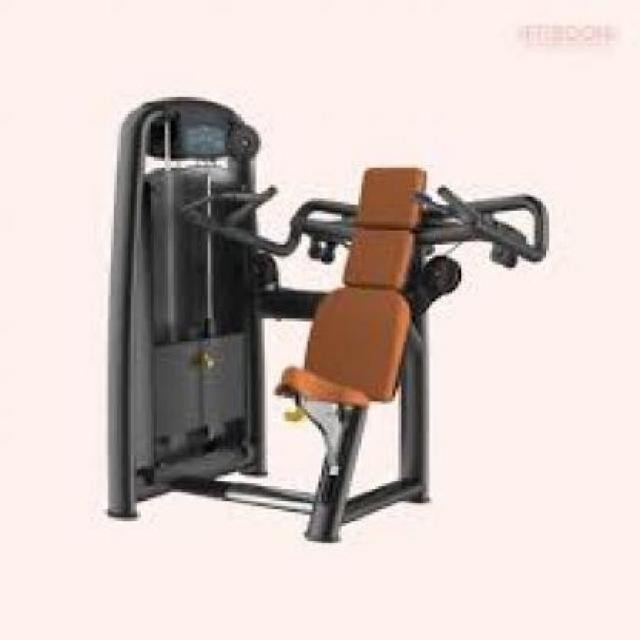shoulder press machine: (103, 88, 555, 549)
